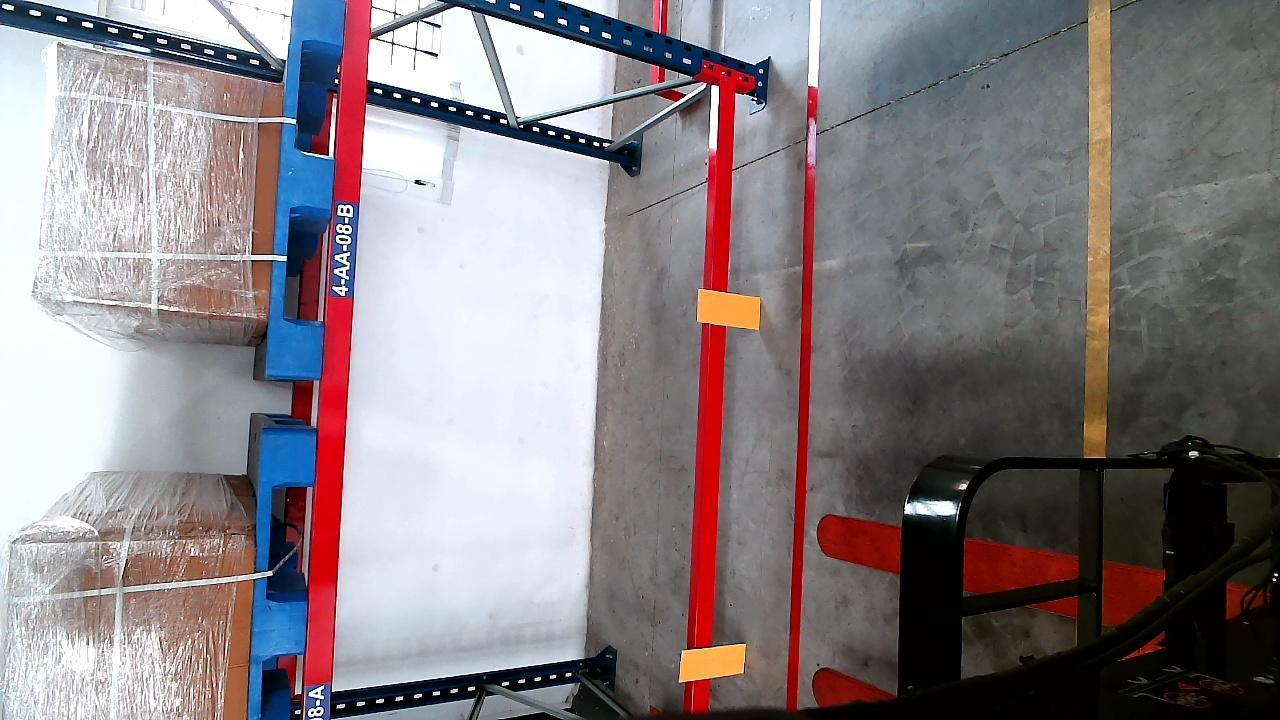h_rack: (304, 0, 370, 720), (691, 81, 732, 716)
orange_strip: (679, 643, 747, 682), (699, 291, 762, 327)
red_line: (783, 74, 820, 702)
small_pallet: (250, 430, 316, 720)
yellow_line: (1086, 0, 1114, 454)
